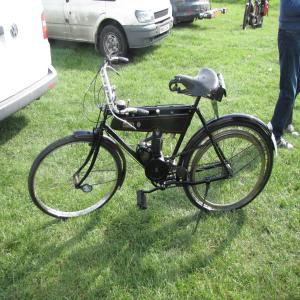Vehicle-registration-plate: (160, 24, 170, 35), (215, 11, 223, 19)
